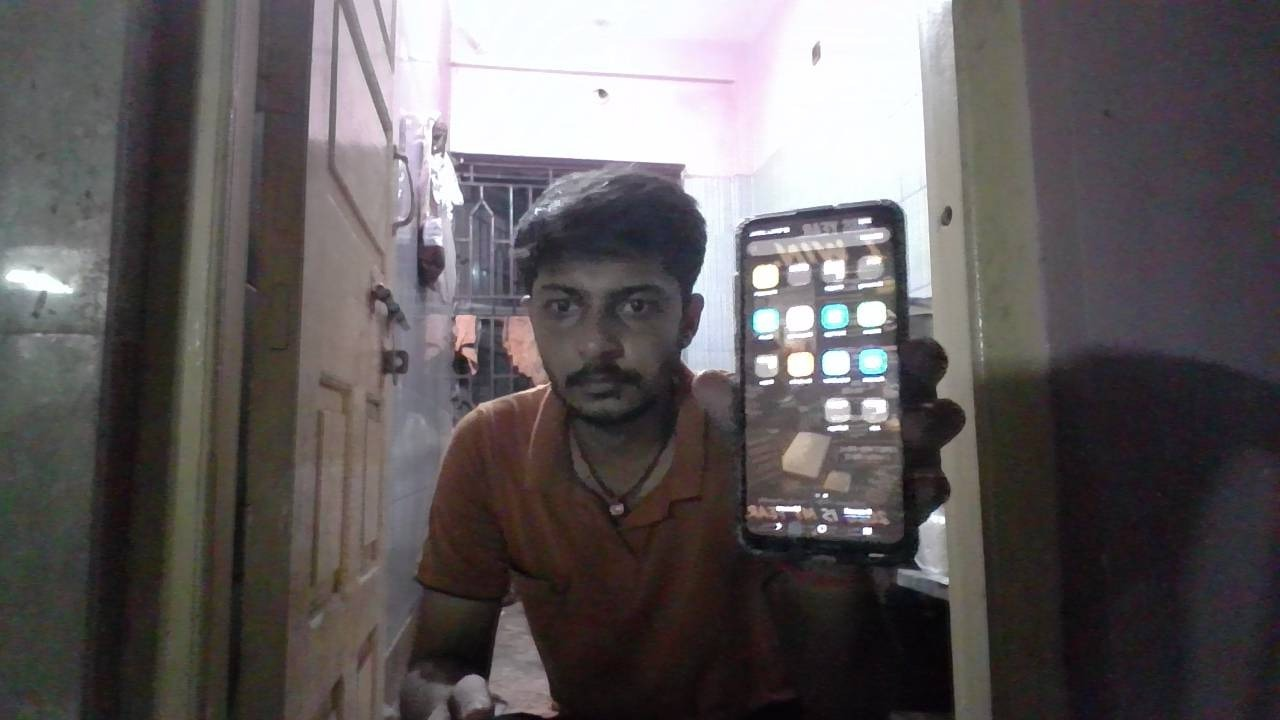red_box: (429, 400, 565, 562), (627, 448, 720, 526), (551, 487, 602, 534)
